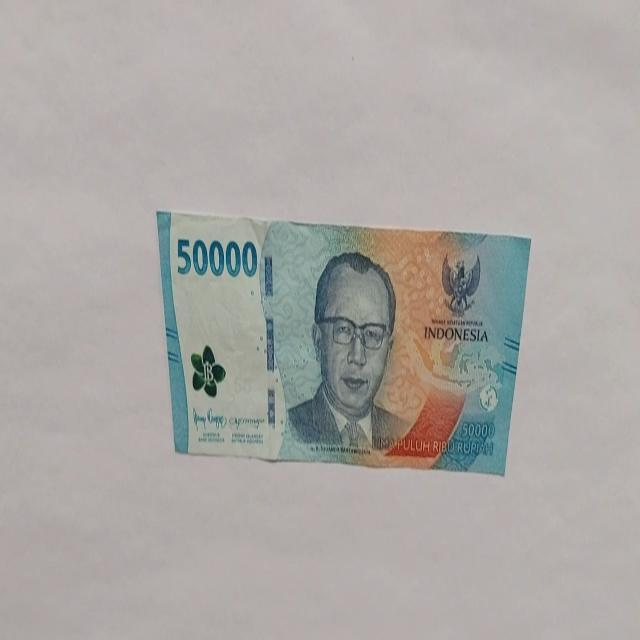lima puluh ribu rupiah: (155, 209, 532, 474), (284, 249, 411, 456), (175, 234, 259, 280)
